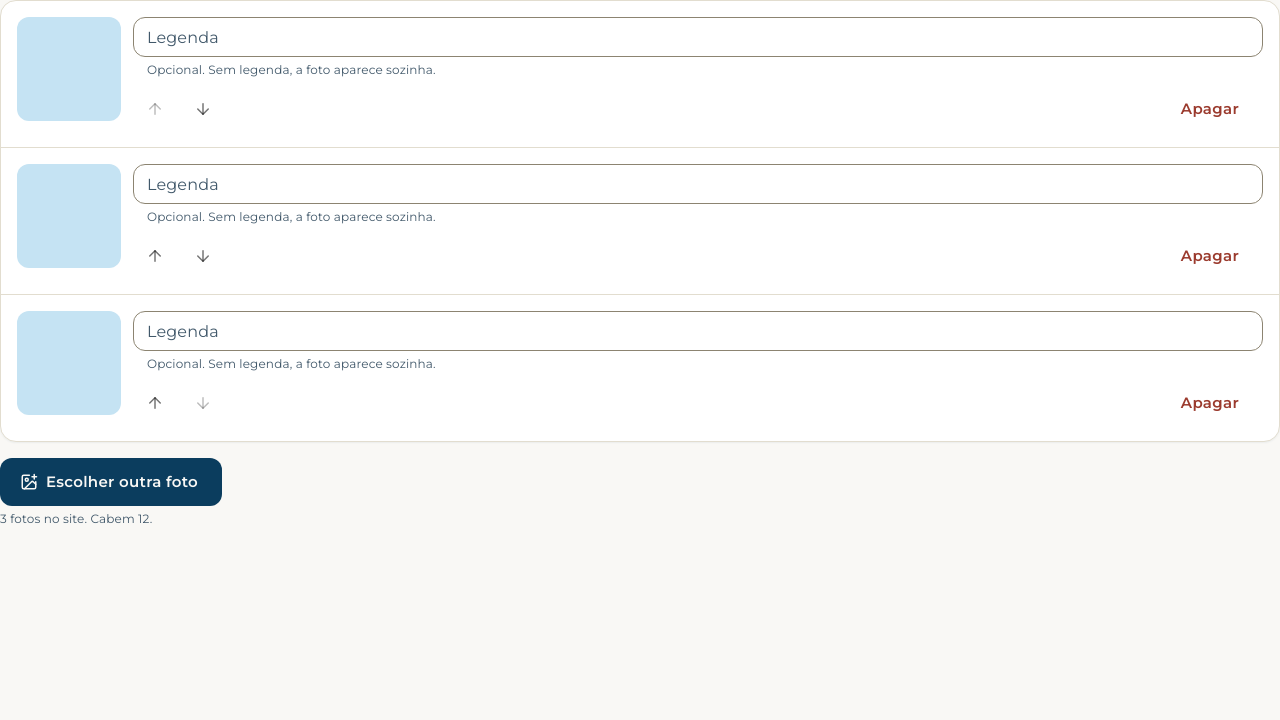
Test: apagar diz o que faz antes de fazer › **o balde recusando: 502, a foto continua na lista, e o texto diz as duas metades**
Step 1. Click the 1st button "Apagar" → (1210, 109), box [1157,87,1263,131]
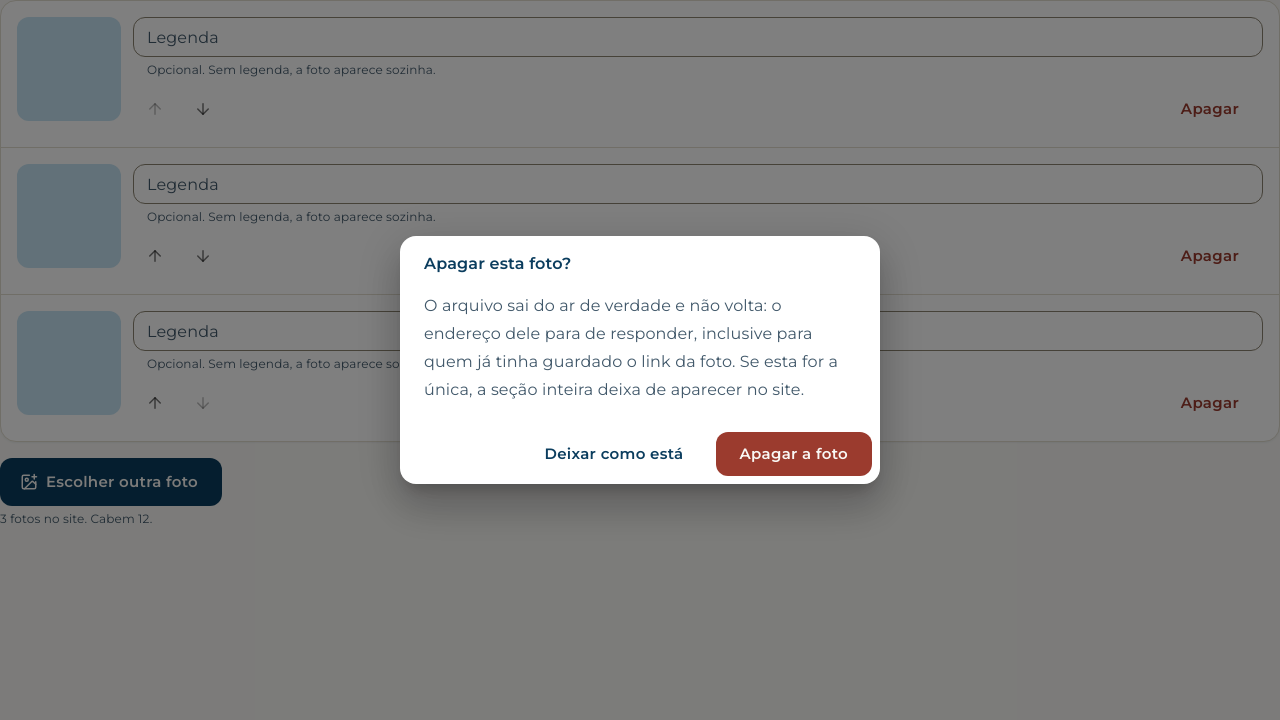
Step 2. Click the button "Apagar a foto" → (794, 454), box [716,432,872,476]
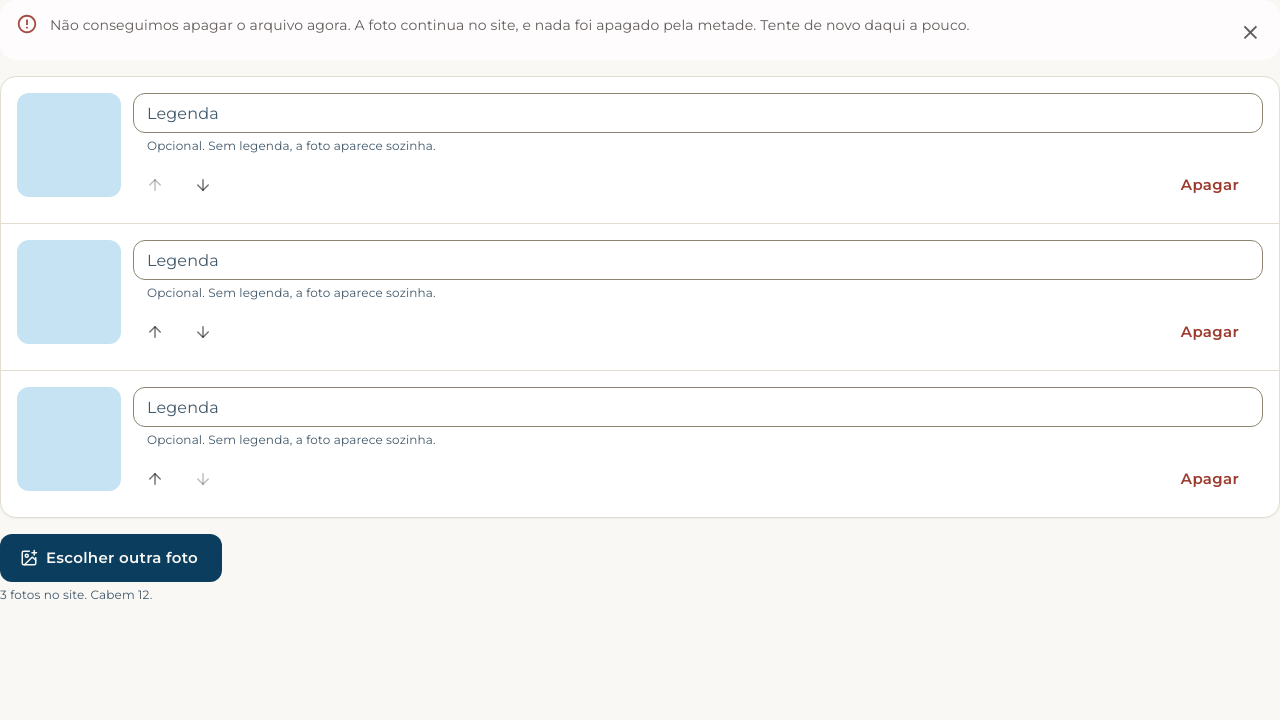
Now the text "A foto continua no site, e nada foi apagado pela metade" is shown, box [50,16,970,34]
